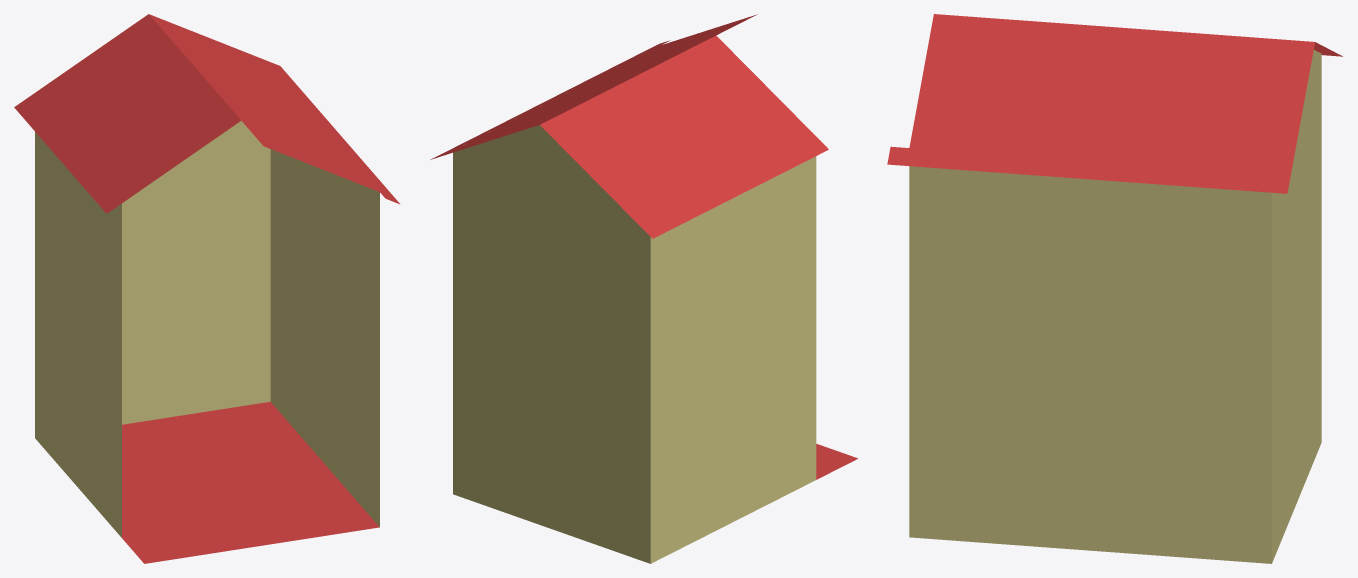
3 views of the same model, side by side, from view 1: azimuth 30°, elevation 25°; view 2: azimuth 150°, elevation 25°; view 3: azimuth 270°, elevation 25° (orthographic). The views are drawn at different scales.
Bounding box in the file's own units: 4.95 × 5.98 × 6.71.
